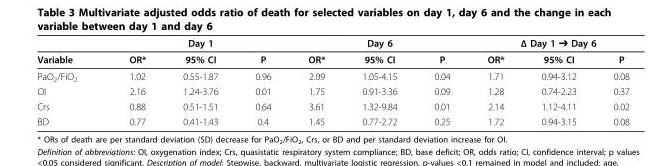table: (36, 36, 628, 126)
table column: (163, 36, 235, 126), (343, 36, 415, 126), (522, 36, 594, 126), (36, 36, 102, 126), (102, 36, 163, 126), (235, 36, 289, 126), (289, 36, 343, 126), (468, 36, 522, 126), (415, 36, 468, 126), (594, 36, 628, 126)
table column header: (36, 36, 628, 67)
table row: (36, 50, 628, 67), (36, 67, 628, 83), (36, 83, 628, 98), (36, 98, 628, 113), (36, 36, 628, 50), (36, 113, 628, 126)
table spanning cell: (468, 36, 628, 50), (163, 36, 235, 67), (343, 36, 415, 67), (36, 36, 102, 67), (102, 36, 163, 67), (235, 36, 289, 67), (289, 36, 343, 67), (415, 36, 468, 67)
